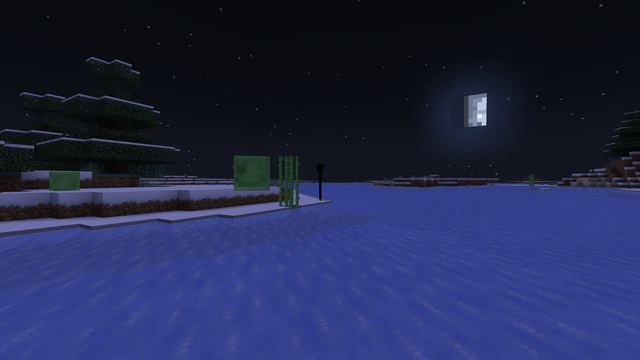endermens: (314, 162, 325, 202)
slimes: (225, 153, 274, 190), (45, 170, 83, 193)
